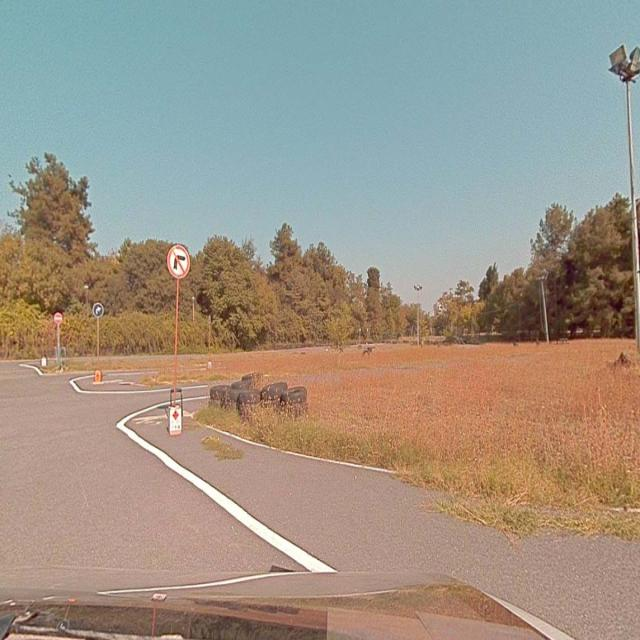girisyok: (54, 312, 62, 324)
sag: (93, 303, 103, 317)
sagadonulmez: (167, 244, 190, 278)
